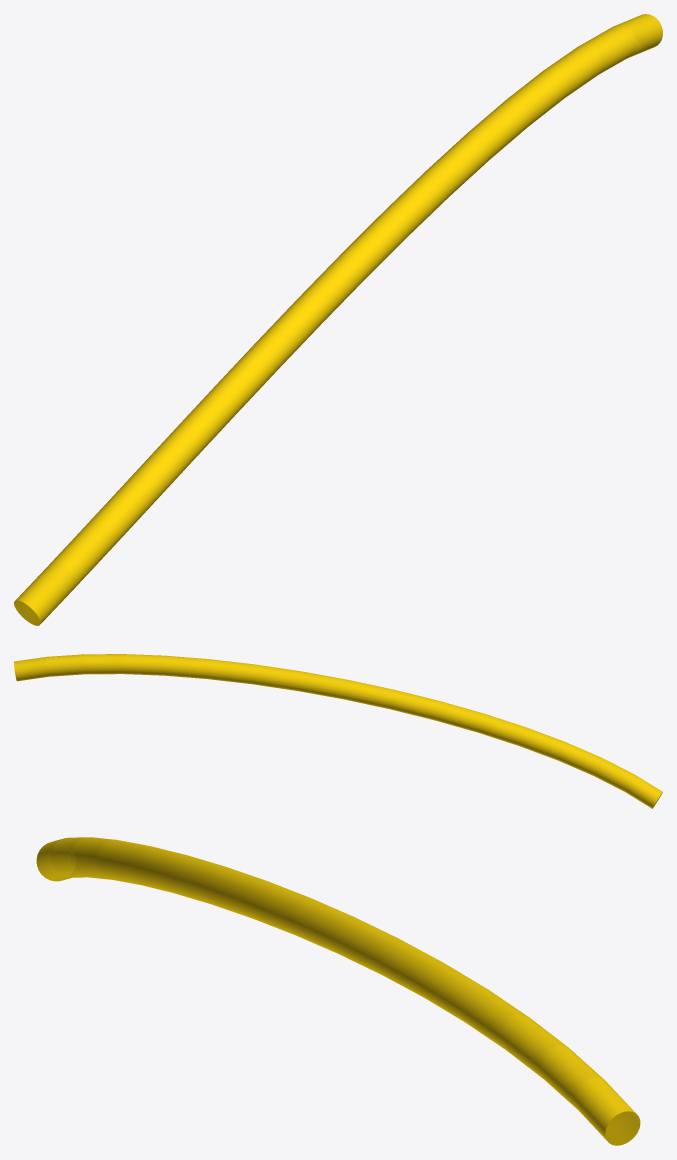
Rendered from Event_421127236_track_46.fbx.
3 views of the same model, one above another, from view 1: azimuth 30°, elevation 25°; view 2: azimuth 150°, elevation 25°; view 3: azimuth 270°, elevation 25° (orthographic). The views are drawn at different scales.
Parts seen in each view (by area): view 1: Model; view 2: Model; view 3: Model.
Part boxes in pixels (left/top/right/bottom): Model: left=14, top=14, right=662, bottom=625; Model: left=14, top=654, right=662, bottom=808; Model: left=36, top=837, right=640, bottom=1145.
Bounding box in the file's own units: 1.17 × 0.2971 × 0.5992.
